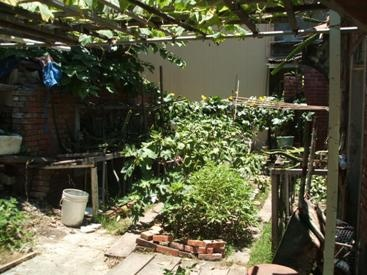bucket: (61, 187, 90, 227)
